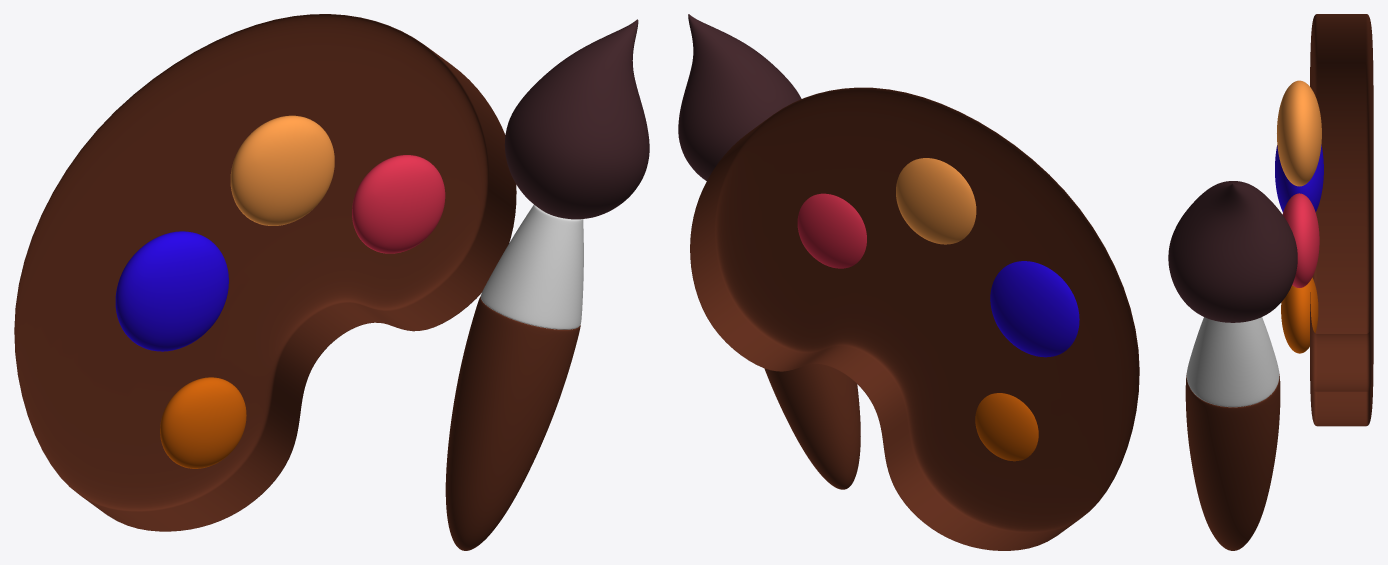
File: painting-kit.glb
The picture shows the model from 3 angles, left to right: view 1: azimuth 30°, elevation 25°; view 2: azimuth 150°, elevation 25°; view 3: azimuth 270°, elevation 25°; orthographic projection. The views are drawn at different scales.
Parts seen in each view (by area): view 1: Cube.004, Cube.001; view 2: Cube.004, Cube.001; view 3: Cube.004, Cube.001.
Boxes of the visible parts, <box> form: Cube.004: <box>14,14,516,531</box>; Cube.001: <box>445,19,649,550</box>; Cube.004: <box>690,87,1139,550</box>; Cube.001: <box>678,14,860,489</box>; Cube.004: <box>1275,14,1373,426</box>; Cube.001: <box>1168,181,1297,550</box>.
Size of the model in its own units: 1.89 by 1.66 by 0.6737.
